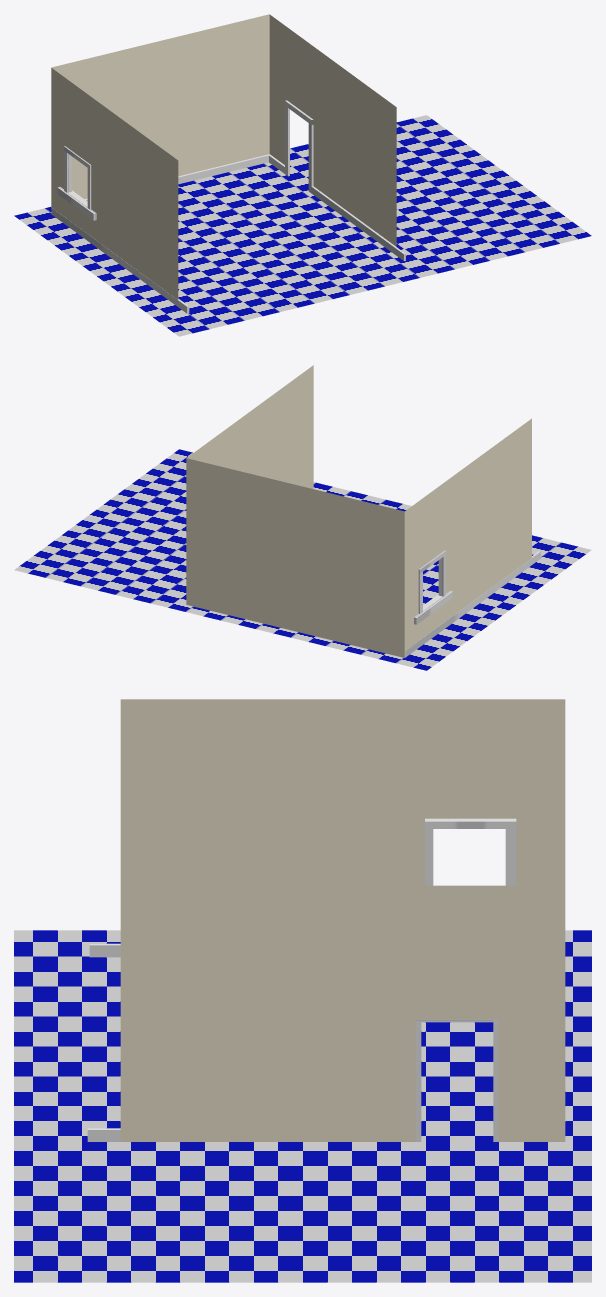
Rendered from room1.obj.
3 views of the same model, one above another, from view 1: azimuth 30°, elevation 25°; view 2: azimuth 150°, elevation 25°; view 3: azimuth 270°, elevation 25° (orthographic). The views are drawn at different scales.
Visible parts, largest first — view 1: walls, pCube6, skirting_and_door_frame, window_frame; view 2: walls, pCube6, window_frame, skirting_and_door_frame; view 3: walls, pCube6, skirting_and_door_frame, window_frame.
Boxes of the visible parts, x1,y1,x2,y2 form: walls: [51, 14, 396, 299]; pCube6: [14, 115, 591, 336]; skirting_and_door_frame: [51, 100, 405, 313]; window_frame: [57, 146, 96, 220]; walls: [186, 365, 531, 657]; pCube6: [14, 449, 591, 670]; window_frame: [414, 550, 452, 624]; skirting_and_door_frame: [405, 551, 540, 657]; walls: [120, 699, 565, 1141]; pCube6: [14, 930, 591, 1282]; skirting_and_door_frame: [87, 943, 498, 1141]; window_frame: [425, 818, 516, 885].
Size of the model in its own units: 525 by 178 by 364.
3 materials, 3 textured.
